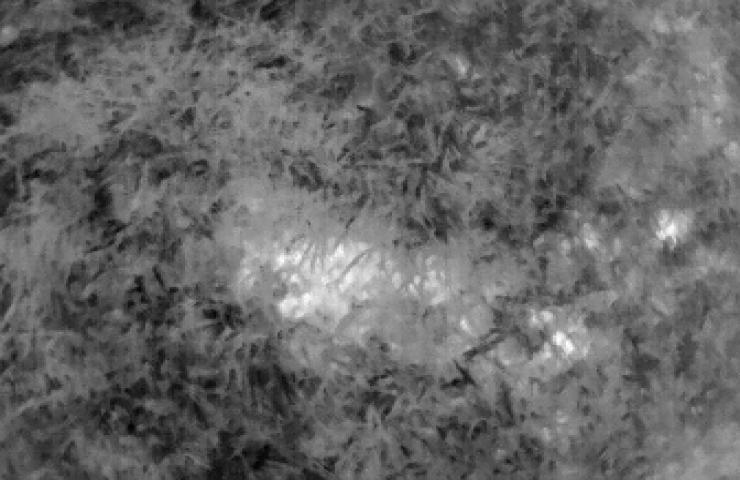landmines: (239, 218, 403, 332)
